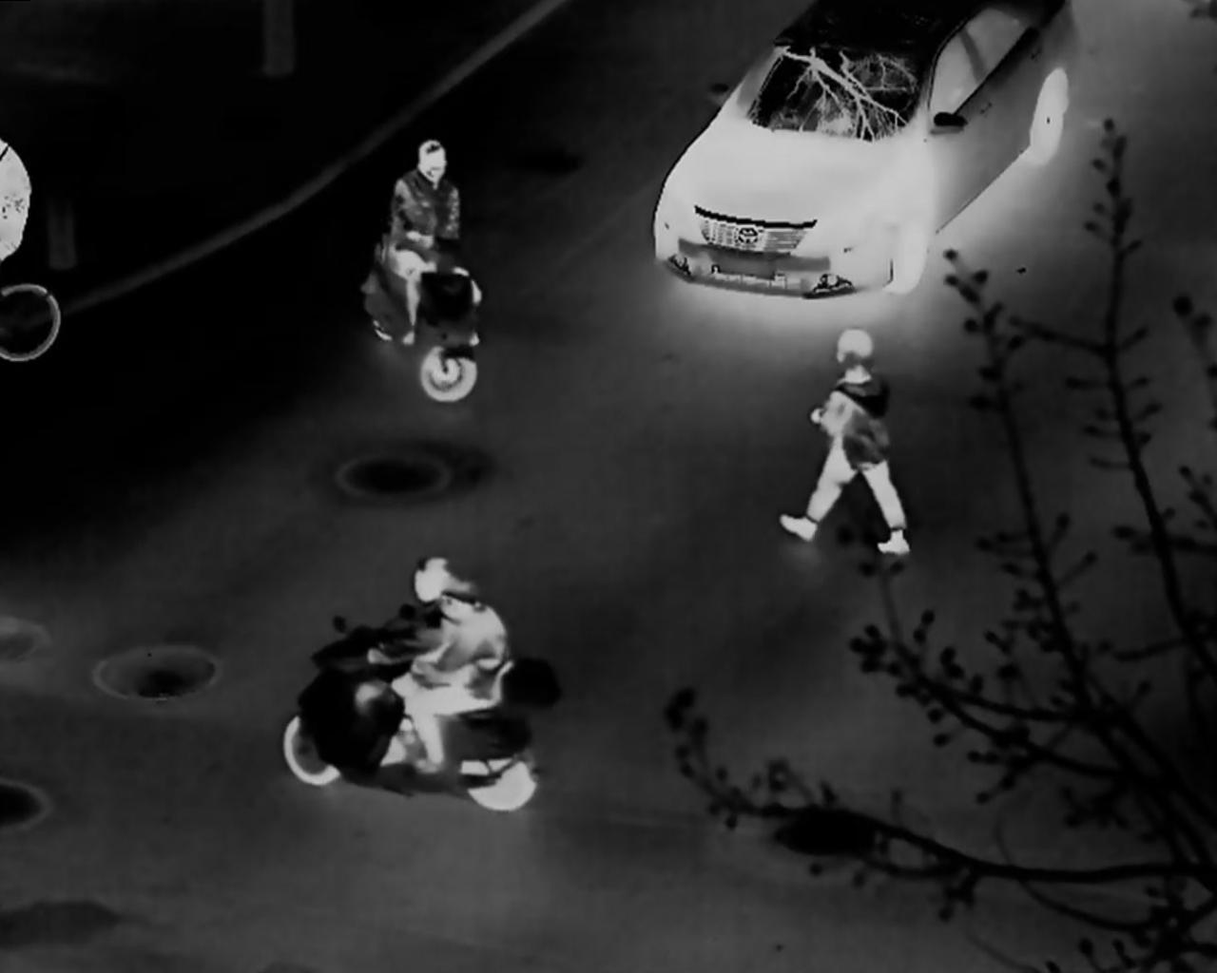person: (779, 329, 911, 554), (405, 580, 507, 774), (389, 139, 481, 348)
